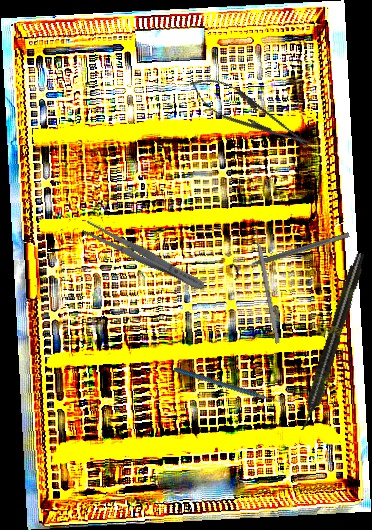Chopper: (172, 332, 292, 437)
Dressing Forceps: (80, 218, 208, 295)
Fixation Ring: (229, 225, 352, 282)
Handpiece: (295, 251, 369, 433)
Needle Holder: (183, 68, 319, 161)
Pusher: (251, 219, 281, 344)
